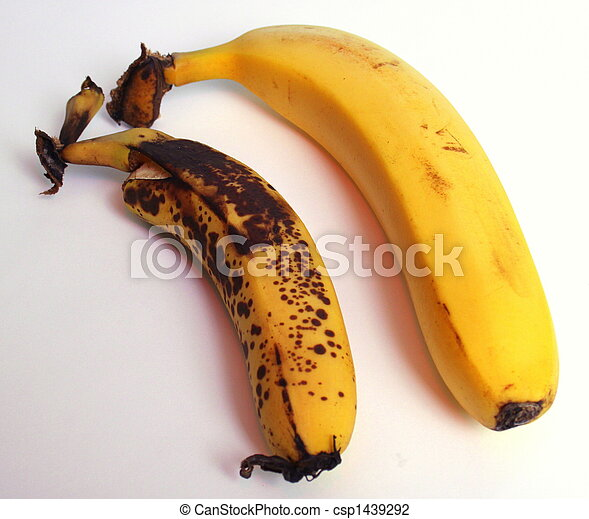looks_defective: (32, 109, 391, 495)
